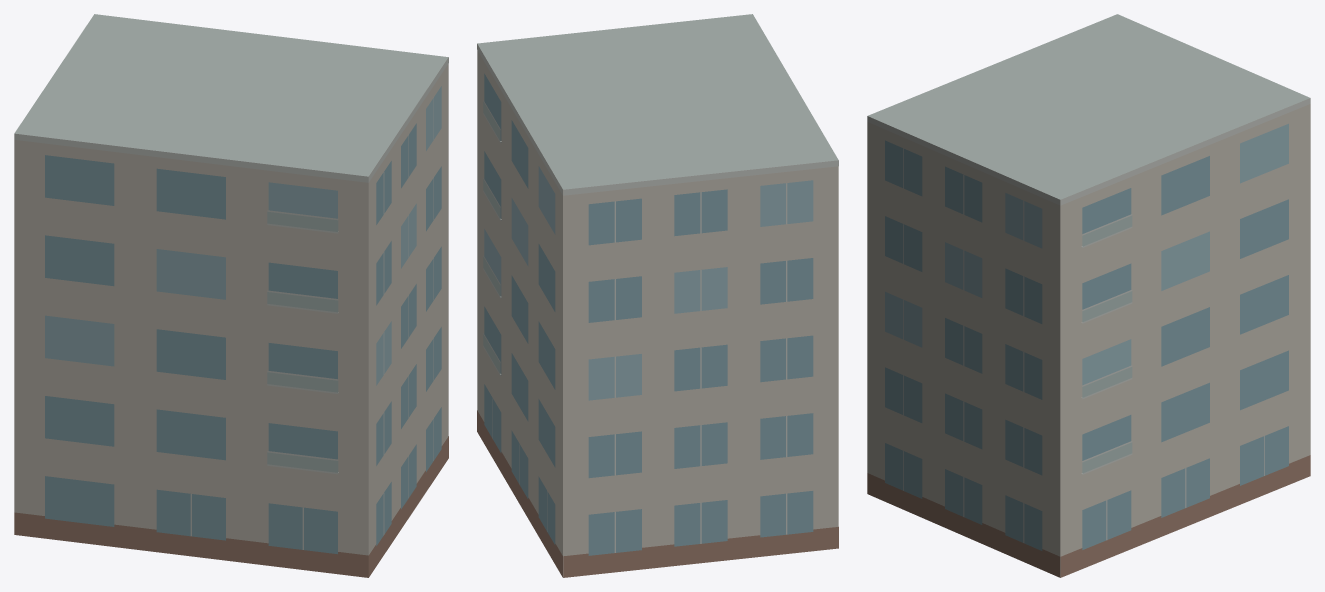
File: survey-upis-32891641.glb
3 views of the same model, side by side, from view 1: azimuth 30°, elevation 25°; view 2: azimuth 150°, elevation 25°; view 3: azimuth 270°, elevation 25° (orthographic). The views are drawn at different scales.
Parts seen in each view (by area): view 1: survey-upis-32891641.tmp; view 2: survey-upis-32891641.tmp; view 3: survey-upis-32891641.tmp.
Part boxes in pixels (x1,y1,x2,y2): survey-upis-32891641.tmp: (14, 14, 448, 577); survey-upis-32891641.tmp: (477, 14, 838, 577); survey-upis-32891641.tmp: (867, 14, 1310, 577).
Bounding box in the file's own units: 16.66 × 15.8 × 16.8.
